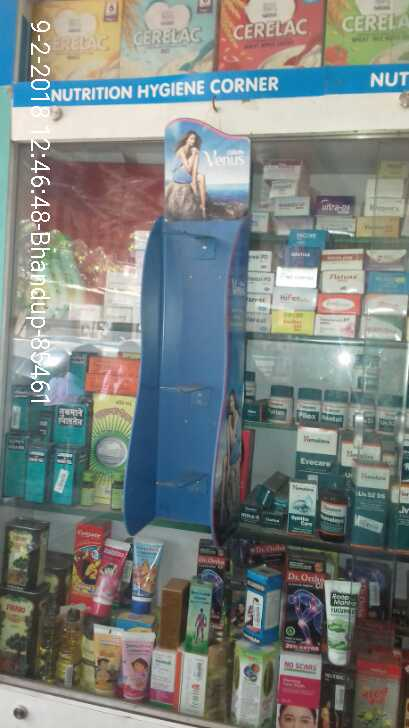reject: (165, 270, 230, 435)
